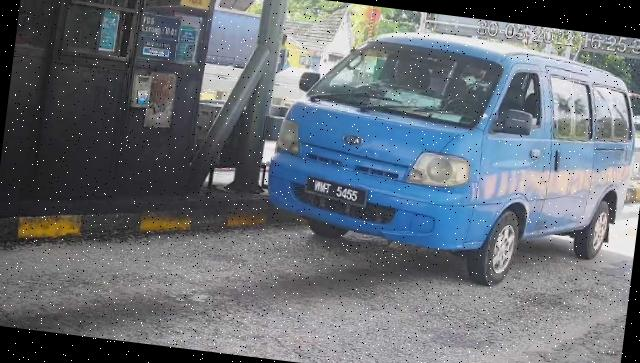License_Plate: (304, 174, 371, 210)
van: (259, 14, 640, 302)
